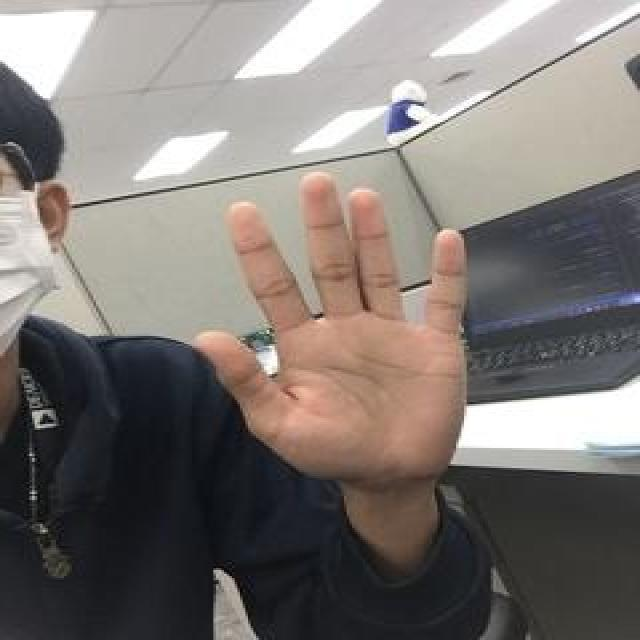hand: (189, 172, 475, 480)
